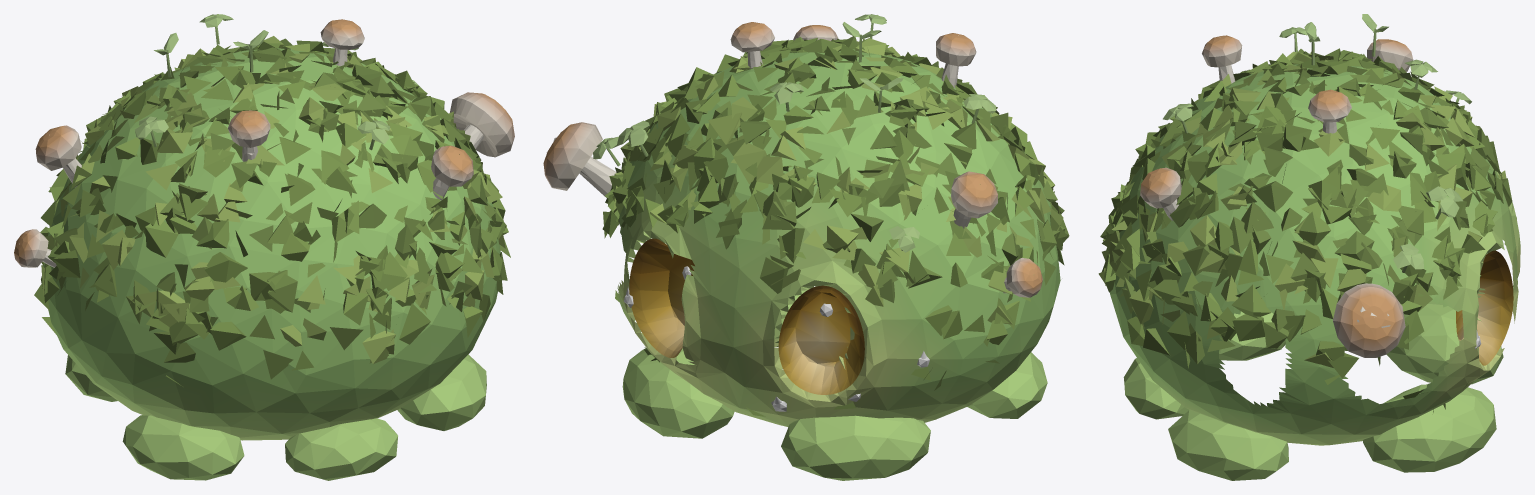
Rendered from moss_slime_roblox.glb.
The picture shows the model from 3 angles, left to right: view 1: azimuth 30°, elevation 25°; view 2: azimuth 150°, elevation 25°; view 3: azimuth 270°, elevation 25°; orthographic projection. The views are drawn at different scales.
Parts seen in each view (by area): view 1: Body, Decor; view 2: Body, Decor, Eyes; view 3: Decor, Body, Eyes.
Boxes of the visible parts, x1,y1,x2,y2 form: Body: (42, 48, 500, 480); Decor: (14, 14, 514, 386); Body: (617, 49, 1060, 480); Decor: (543, 14, 1069, 416); Eyes: (629, 238, 864, 394); Decor: (1098, 14, 1512, 412); Body: (1110, 64, 1520, 480); Eyes: (1456, 250, 1513, 365).
Size of the model in its own units: 1.98 by 1.47 by 1.51.
